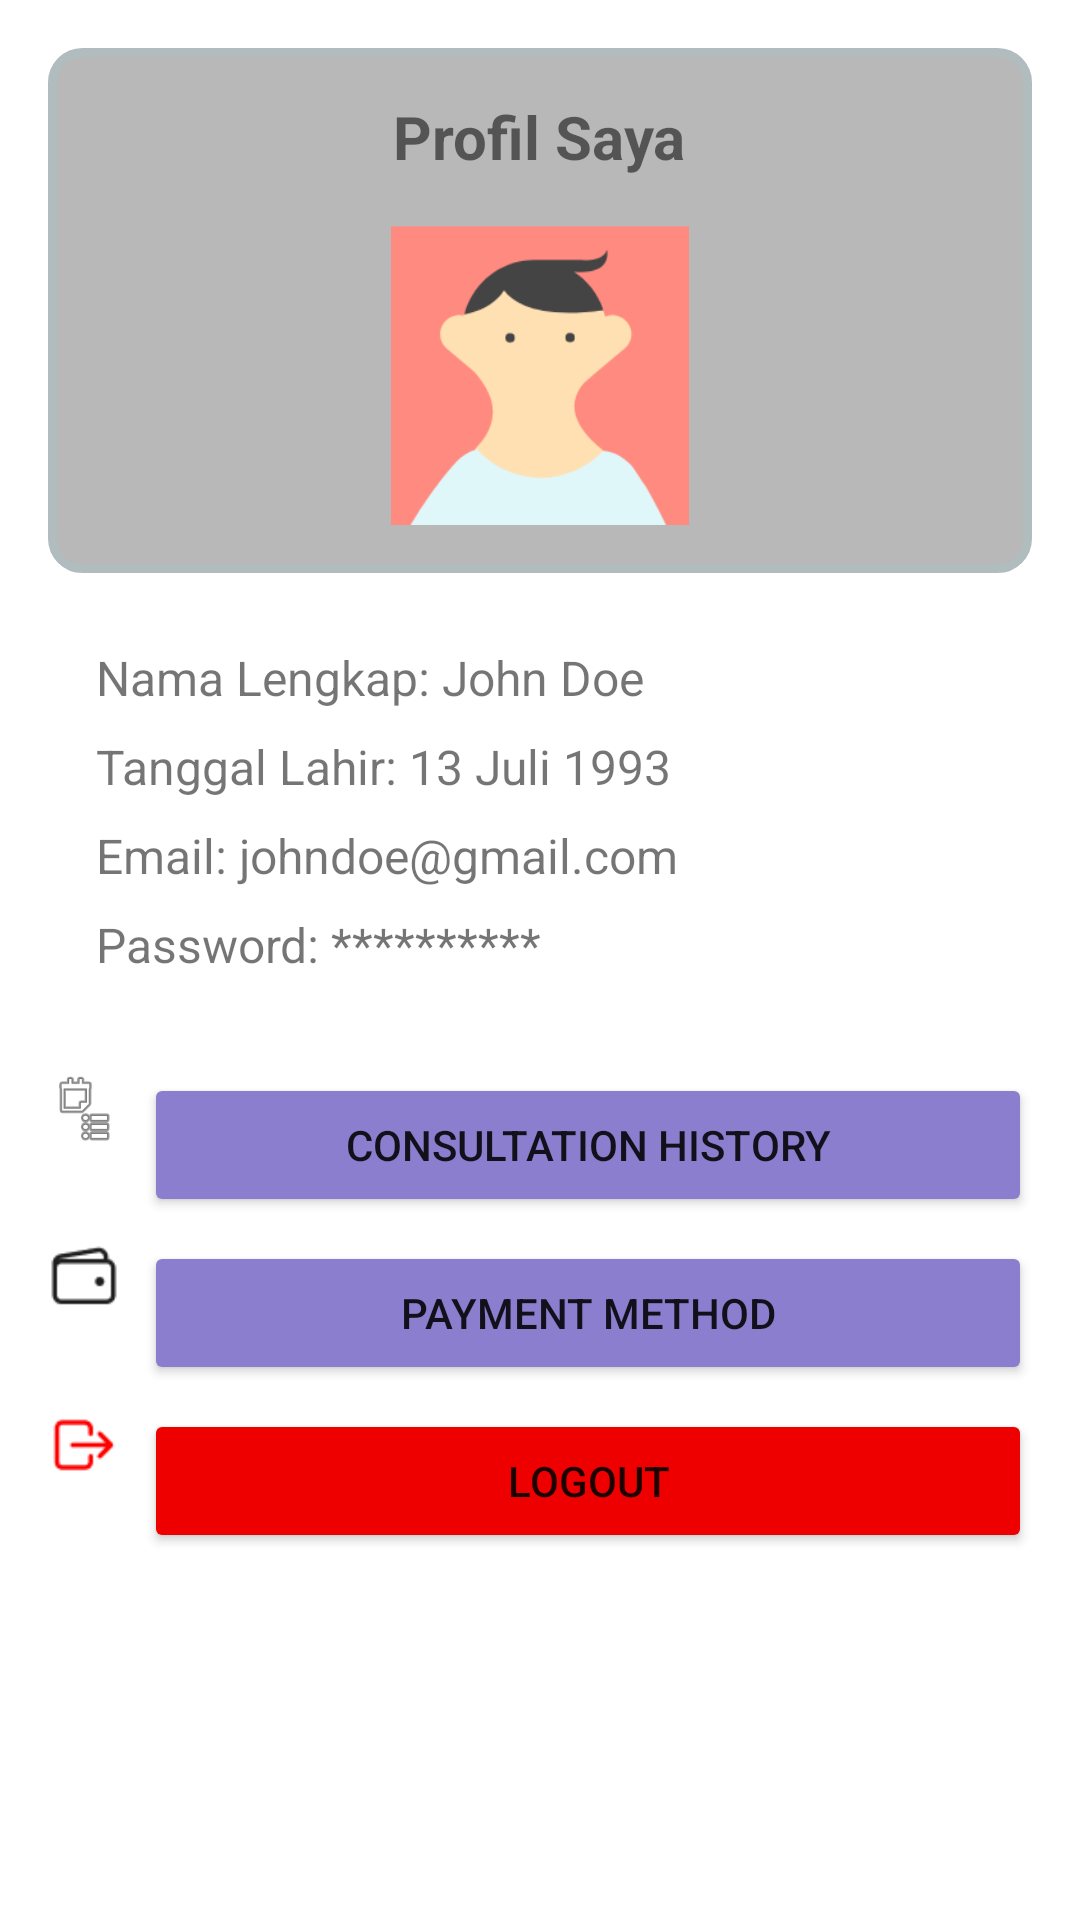

Locate icon controls on the screen. Image size 1080px x 1920px, boxes as (x1, y1, x2, y2).
agenda: (59, 1077, 110, 1141)
wallet: (51, 1246, 117, 1305)
